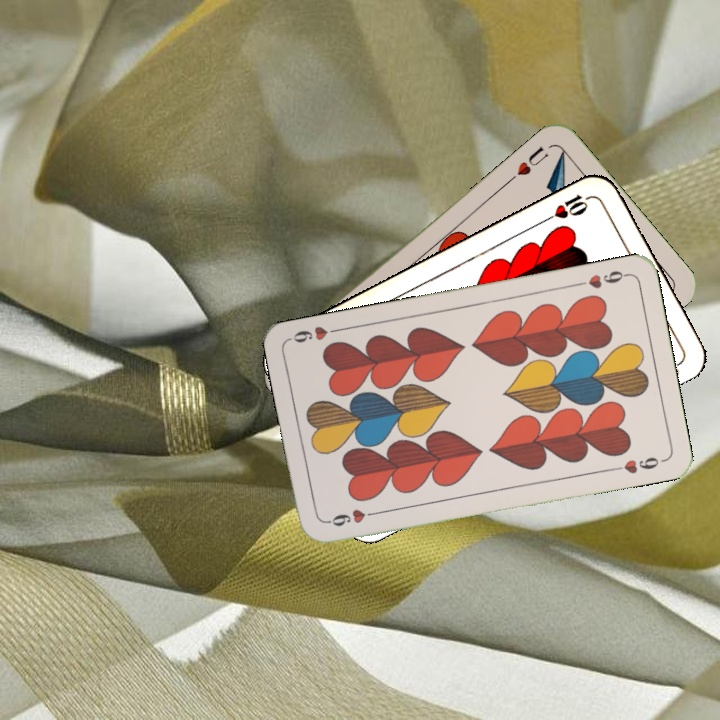H10: (541, 189, 596, 224)
H9: (572, 266, 631, 291), (322, 505, 381, 529)
HU: (504, 142, 552, 185)
